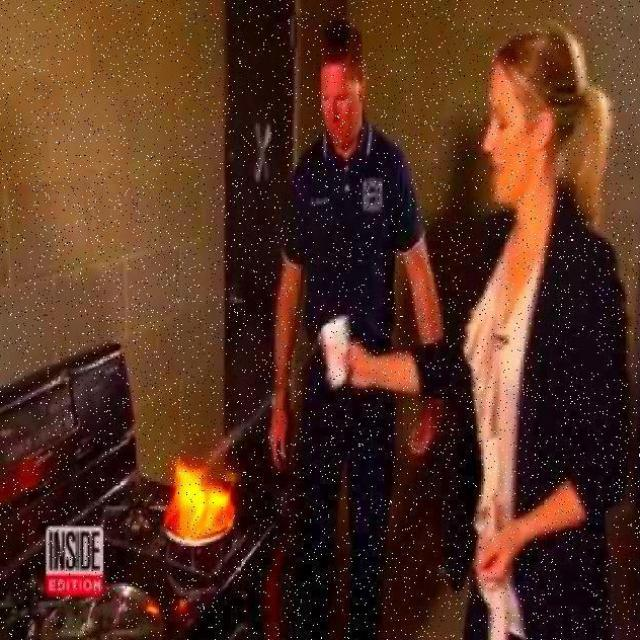smoke: (162, 448, 248, 542)
